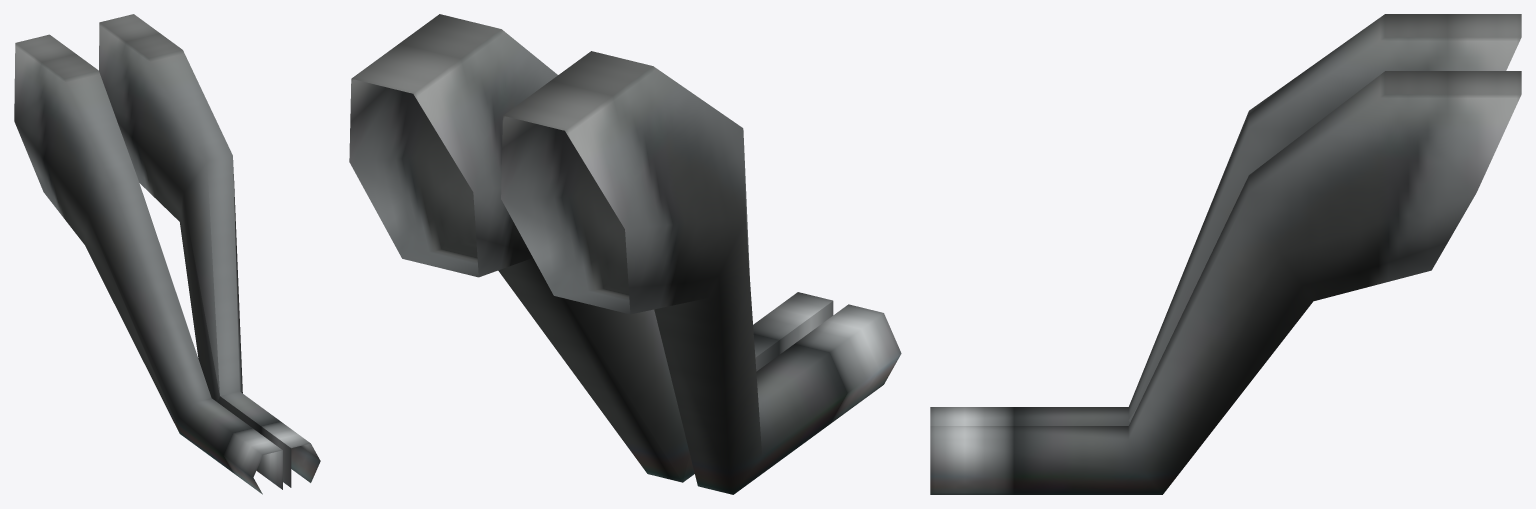
The model's file is acc_34.glb.
3 views of the same model, side by side, from view 1: azimuth 30°, elevation 25°; view 2: azimuth 150°, elevation 25°; view 3: azimuth 270°, elevation 25° (orthographic). The views are drawn at different scales.
Parts seen in each view (by area): view 1: polySurface4; view 2: polySurface4; view 3: polySurface4.
Boxes of the visible parts, x1=… form: polySurface4: x1=14, y1=14, x2=320, y2=494; polySurface4: x1=349, y1=14, x2=901, y2=494; polySurface4: x1=930, y1=14, x2=1521, y2=494.
Bounding box in the file's own units: 0.3576 × 0.6817 × 0.8604.
1 material, 1 textured.
